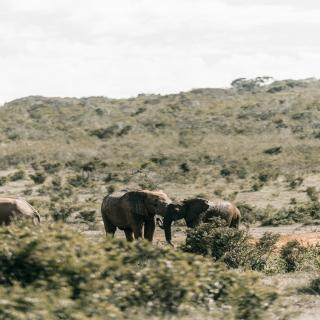Elephant: (101, 186, 179, 248), (164, 194, 249, 248)
